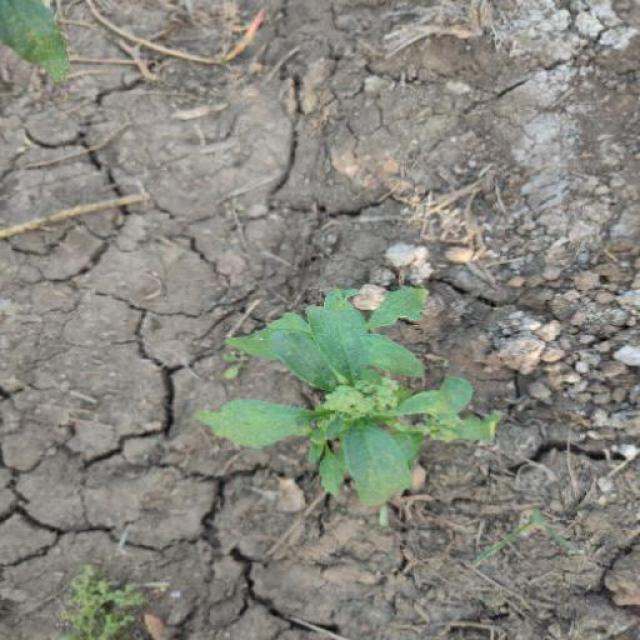weed: (210, 290, 499, 531)
